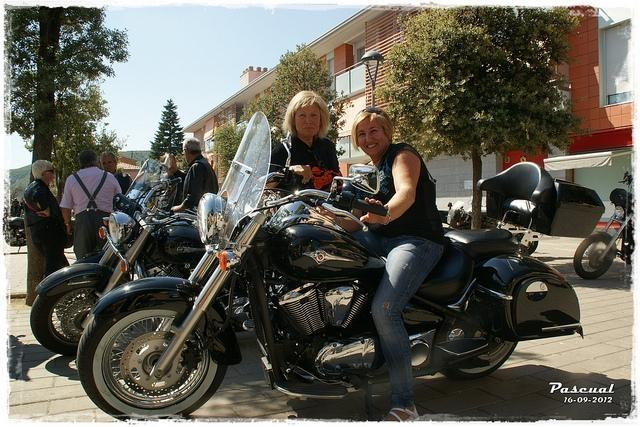motorcycle: (76, 111, 605, 423), (27, 155, 255, 355), (576, 187, 634, 280)
